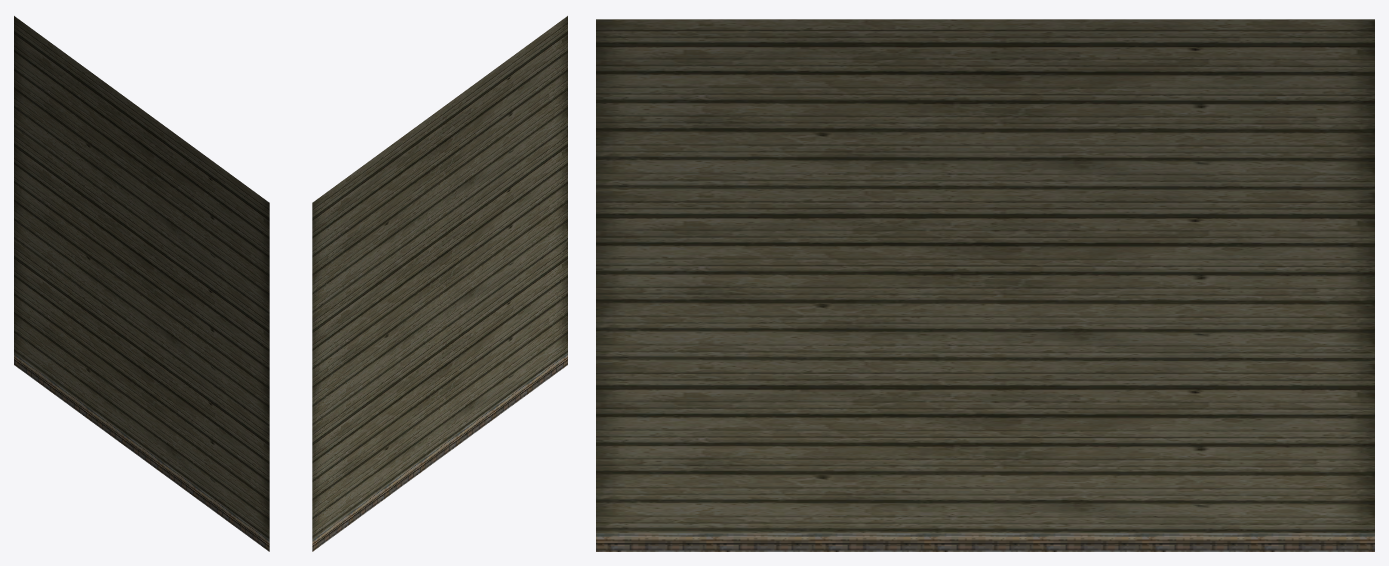
Rendered from M11_HANGERDOOR.glb.
The picture shows the model from 3 angles, left to right: view 1: azimuth 30°, elevation 25°; view 2: azimuth 150°, elevation 25°; view 3: azimuth 270°, elevation 25°; orthographic projection. The views are drawn at different scales.
Parts seen in each view (by area): view 1: M11_HANGERDOOR; view 2: M11_HANGERDOOR; view 3: M11_HANGERDOOR.
Part boxes in pixels (bbox=[...]): M11_HANGERDOOR: bbox=[14, 16, 269, 551]; M11_HANGERDOOR: bbox=[312, 16, 567, 551]; M11_HANGERDOOR: bbox=[596, 19, 1374, 551].
Size of the model in its own units: 0.133 by 6.04 by 8.
Materials: 2 (2 with a texture image).
